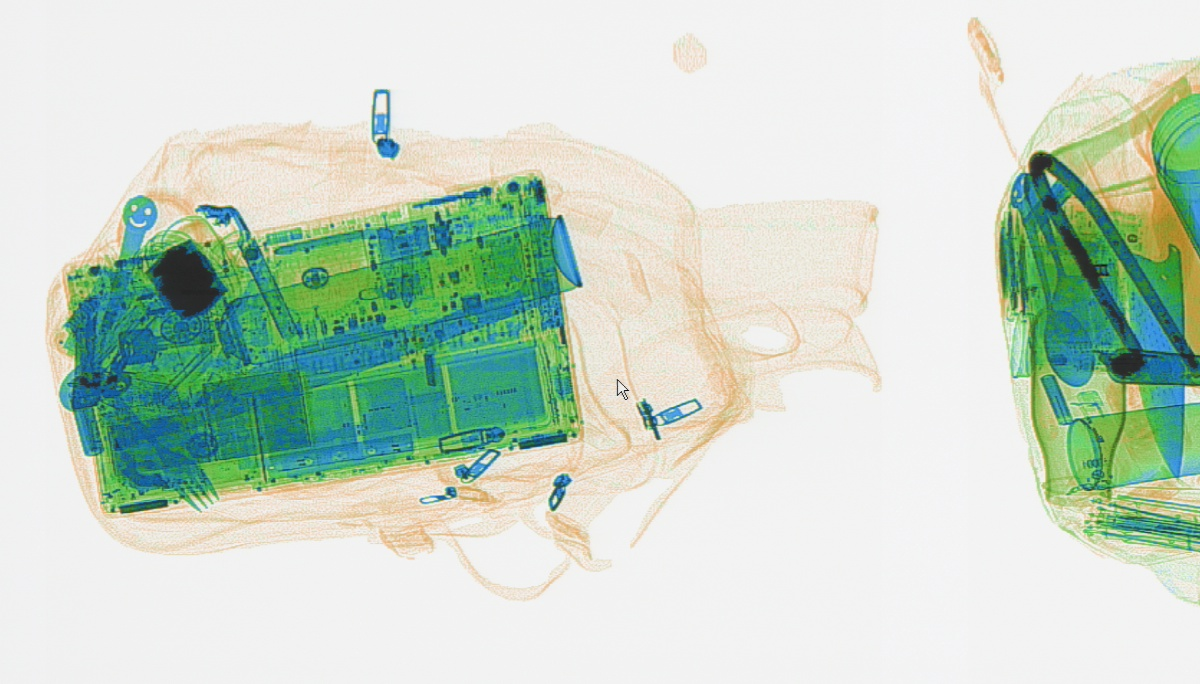lighter: (1076, 383, 1133, 485)
pressure: (210, 212, 583, 363)
scissors: (1111, 230, 1185, 485)
